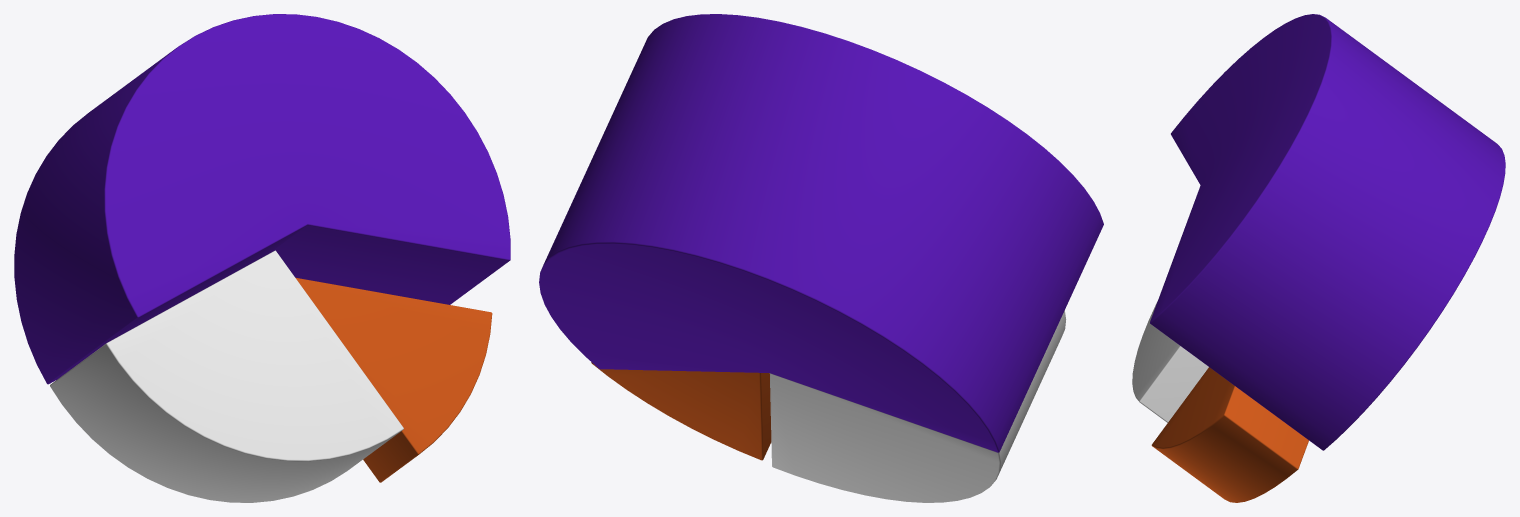
File: chart.glb
3 renders of one model, left to right at view 1: azimuth 30°, elevation 25°; view 2: azimuth 150°, elevation 25°; view 3: azimuth 270°, elevation 25°, orthographic. The views are drawn at different scales.
Visible parts, largest first — view 1: Cylinder.001; view 2: Cylinder.001; view 3: Cylinder.001.
Boxes of the visible parts, left/top/right/bottom form: Cylinder.001: left=14, top=14, right=510, bottom=502; Cylinder.001: left=539, top=14, right=1103, bottom=502; Cylinder.001: left=1132, top=14, right=1505, bottom=502.
Bounding box in the file's own units: 1.82 × 1.99 × 1.59.
